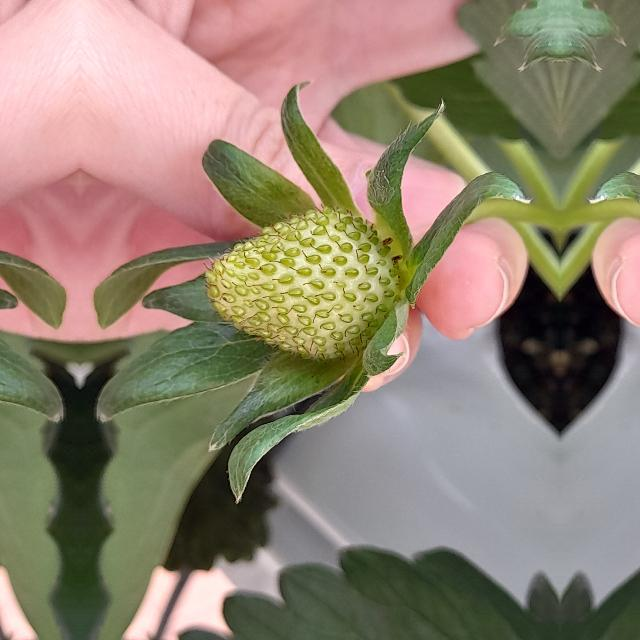Health_25: (202, 203, 402, 364)
